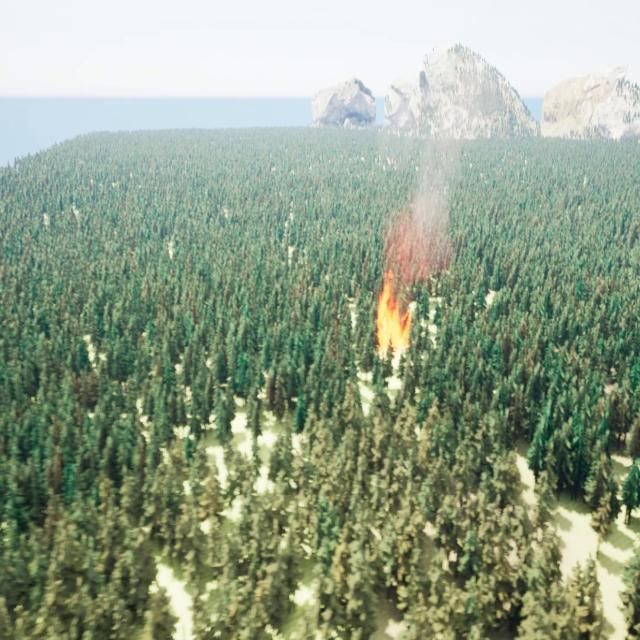fire: (376, 273, 410, 351)
smoke: (386, 108, 456, 282)
